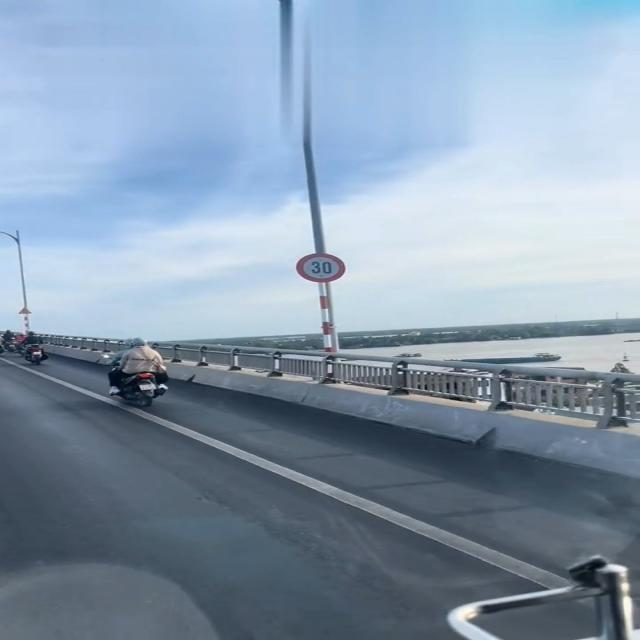127-toc-do-toi-da-30: (294, 252, 346, 283)
